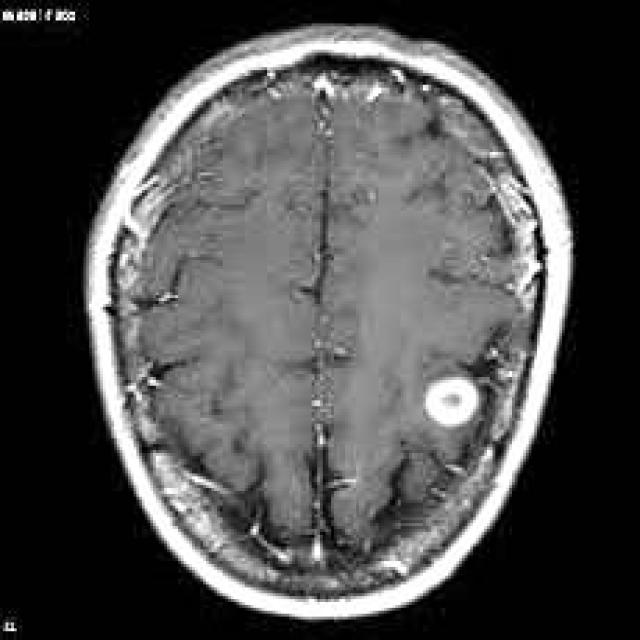Tumor-Cell: (414, 356, 488, 424)
